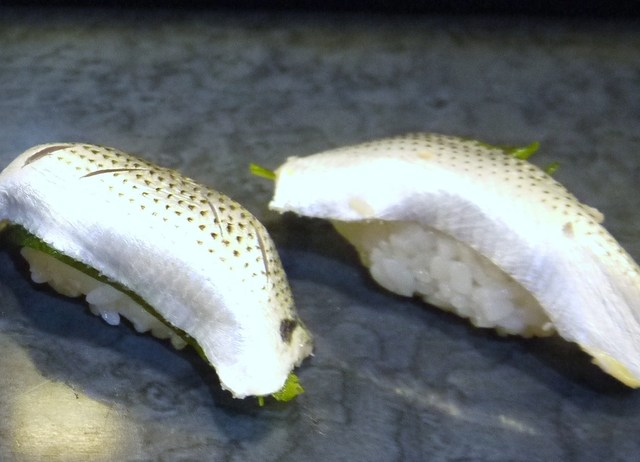spotted-shad: (1, 139, 315, 406)
